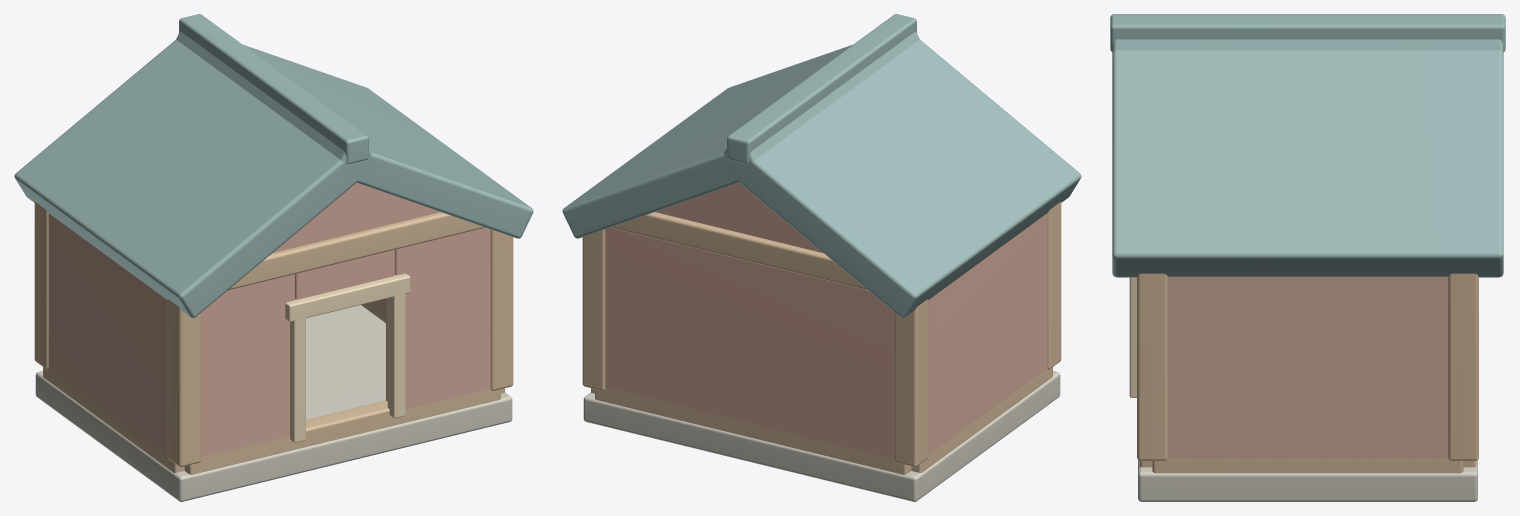
File: goat-shelter-roof.glb
3 renders of one model, left to right at view 1: azimuth 30°, elevation 25°; view 2: azimuth 150°, elevation 25°; view 3: azimuth 270°, elevation 25°, orthographic. The views are drawn at different scales.
Parts seen in each view (by area): view 1: Padded roof plane.016, Rounded stone footing.022, Side panel.016, Padded roof plane.017, Front cladding.013, Front cladding.012, Ridge cap.008, Eave beam.026, Sill beam.088, Corner post.064, Gable cladding.016, Corner post.066 (+6 smaller); view 2: Padded roof plane.016, Back panel.006, Side panel.016, Padded roof plane.017, Rounded stone footing.022, Ridge cap.008, Eave beam.027, Corner post.065, Sill beam.089, Gable cladding.017, Corner post.067, Corner post.064 (+1 smaller); view 3: Padded roof plane.017, Side panel.017, Ridge cap.008, Rounded stone footing.022, Corner post.066, Corner post.067, Sill beam.091, Padded roof plane.016, Front door jamb.013.
Part boxes in pixels (bbox=[...]): Padded roof plane.016: bbox=[14, 39, 374, 317]; Rounded stone footing.022: bbox=[35, 305, 512, 501]; Side panel.016: bbox=[48, 213, 167, 454]; Padded roof plane.017: bbox=[176, 31, 533, 238]; Front cladding.013: bbox=[386, 227, 490, 409]; Front cladding.012: bbox=[201, 274, 294, 459]; Ridge cap.008: bbox=[179, 14, 368, 163]; Eave beam.026: bbox=[228, 212, 484, 290]; Sill beam.088: bbox=[184, 389, 500, 474]; Corner post.064: bbox=[167, 299, 201, 466]; Gable cladding.016: bbox=[273, 183, 440, 252]; Corner post.066: bbox=[490, 229, 513, 390]; Padded roof plane.016: bbox=[720, 39, 1081, 317]; Back panel.006: bbox=[605, 227, 894, 459]; Side panel.016: bbox=[928, 213, 1047, 454]; Padded roof plane.017: bbox=[562, 31, 919, 238]; Rounded stone footing.022: bbox=[583, 371, 1060, 501]; Ridge cap.008: bbox=[727, 14, 916, 163]; Eave beam.027: bbox=[611, 212, 867, 290]; Corner post.065: bbox=[894, 299, 928, 466]; Sill beam.089: bbox=[595, 387, 911, 474]; Gable cladding.017: bbox=[655, 183, 822, 252]; Corner post.067: bbox=[582, 229, 605, 390]; Corner post.064: bbox=[1047, 202, 1061, 369]; Padded roof plane.017: bbox=[1112, 50, 1503, 277]; Side panel.017: bbox=[1167, 276, 1448, 458]; Ridge cap.008: bbox=[1110, 14, 1505, 51]; Rounded stone footing.022: bbox=[1138, 460, 1477, 501]; Corner post.066: bbox=[1137, 273, 1167, 460]; Corner post.067: bbox=[1448, 273, 1478, 460]; Sill beam.091: bbox=[1152, 455, 1463, 473]; Padded roof plane.016: bbox=[1112, 39, 1503, 51]; Front door jamb.013: bbox=[1129, 277, 1136, 397].
Bounding box in the file's own units: 2.62 × 2.34 × 2.16.
